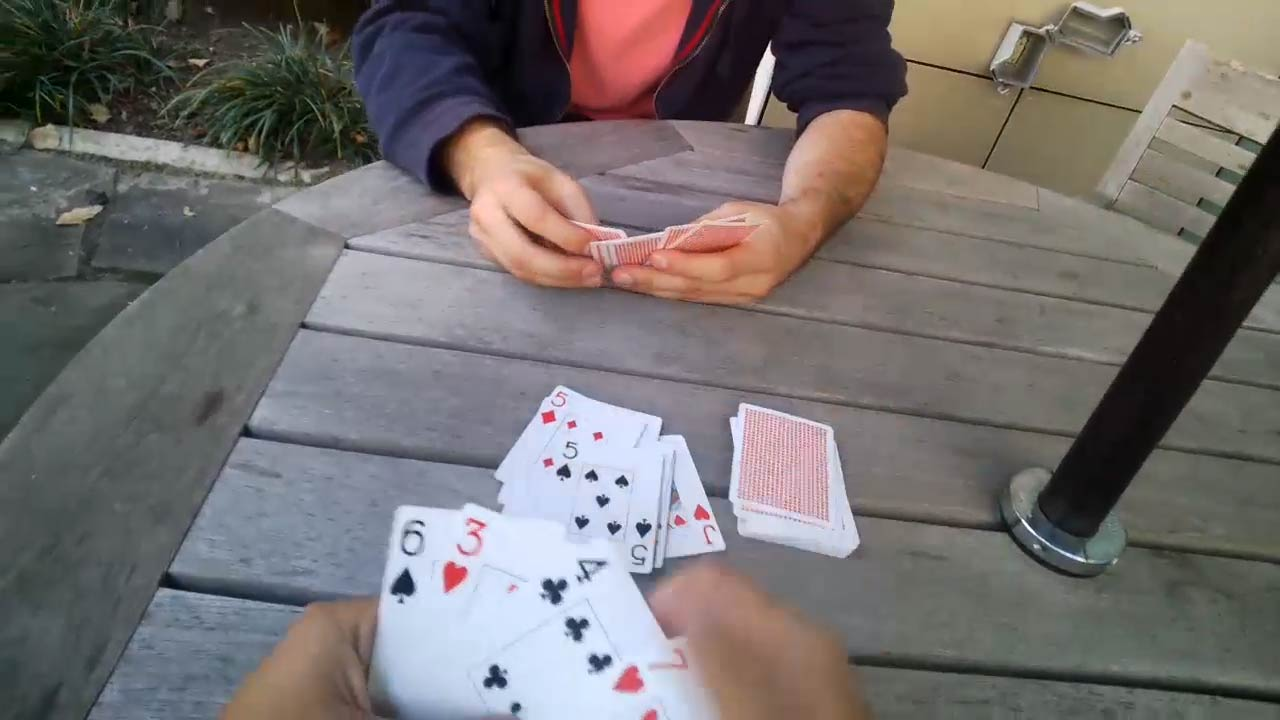hand: (653, 568, 860, 713), (609, 201, 814, 296), (462, 158, 608, 282), (224, 602, 376, 717)
